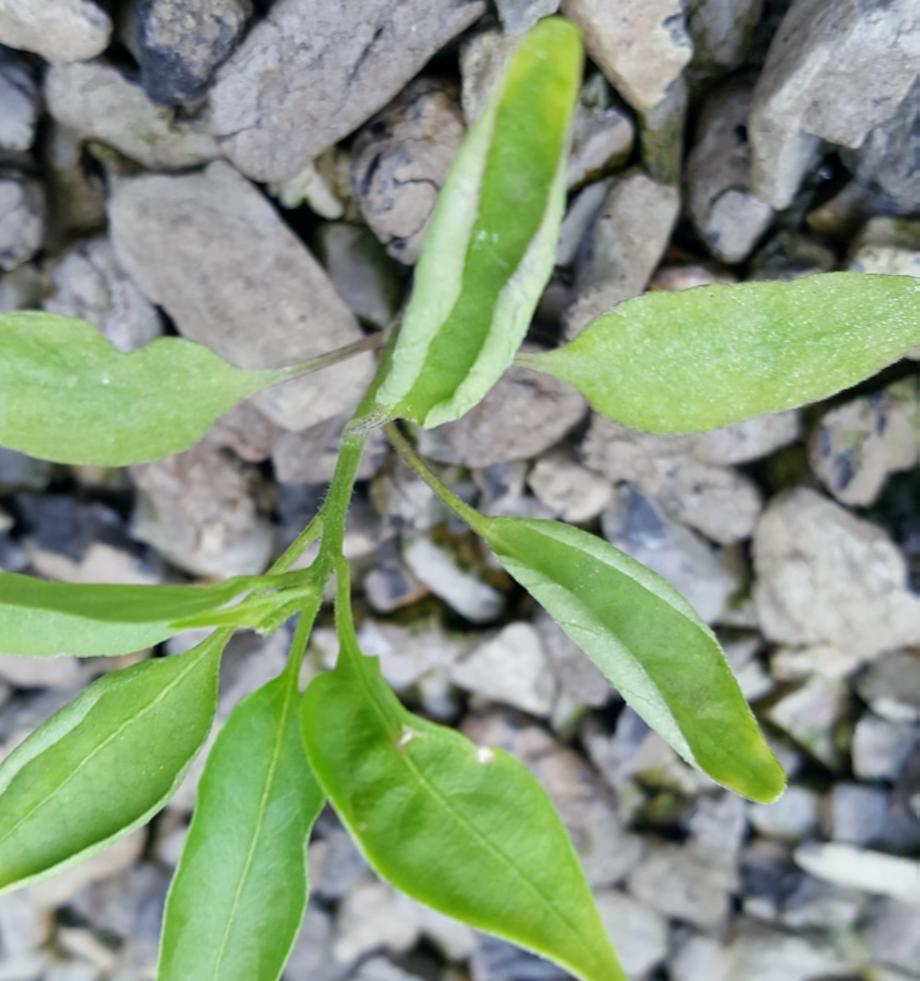Tomato leaf: (298, 655, 656, 981), (458, 502, 791, 814), (130, 628, 365, 981), (532, 251, 920, 444), (0, 315, 275, 474)
